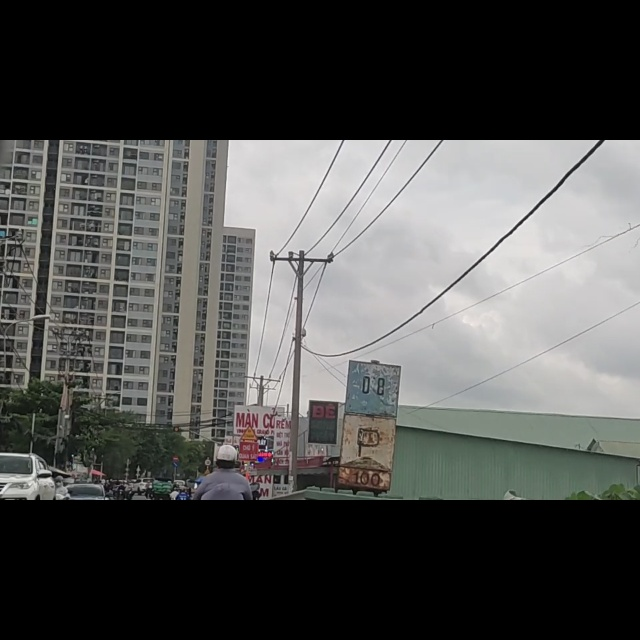bien_cam: (239, 507, 260, 536)
